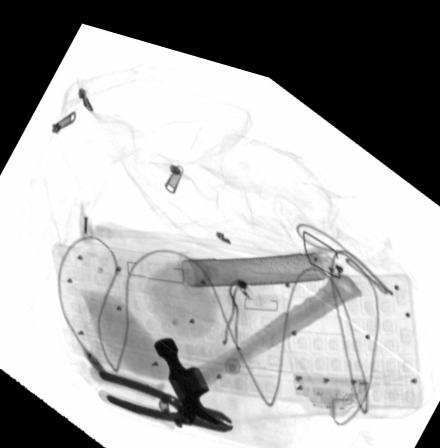Hammer: (152, 250, 360, 411)
Pliers: (88, 356, 233, 421)
